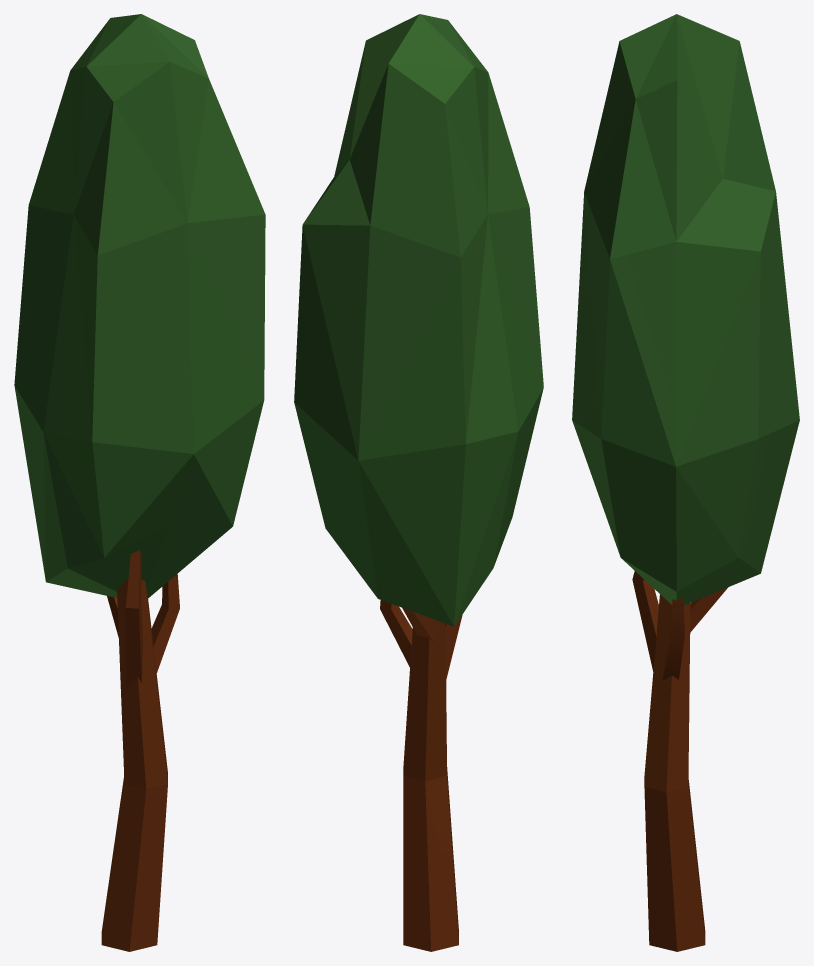
Rendered from Tree4_high.glb.
The picture shows the model from 3 angles, left to right: view 1: azimuth 30°, elevation 25°; view 2: azimuth 150°, elevation 25°; view 3: azimuth 270°, elevation 25°; orthographic projection.
Parts seen in each view (by area): view 1: Tree_temp_climate_004, Tree_temp_climate_004.001; view 2: Tree_temp_climate_004, Tree_temp_climate_004.001; view 3: Tree_temp_climate_004, Tree_temp_climate_004.001.
Boxes of the visible parts, x1,y1,x2,y2 form: Tree_temp_climate_004: (14, 14, 265, 598); Tree_temp_climate_004.001: (101, 550, 179, 951); Tree_temp_climate_004: (294, 14, 543, 626); Tree_temp_climate_004.001: (380, 600, 462, 951); Tree_temp_climate_004: (572, 14, 799, 604); Tree_temp_climate_004.001: (632, 571, 728, 951).
Bounding box in the file's own units: 1.53 × 6.4 × 1.42.
